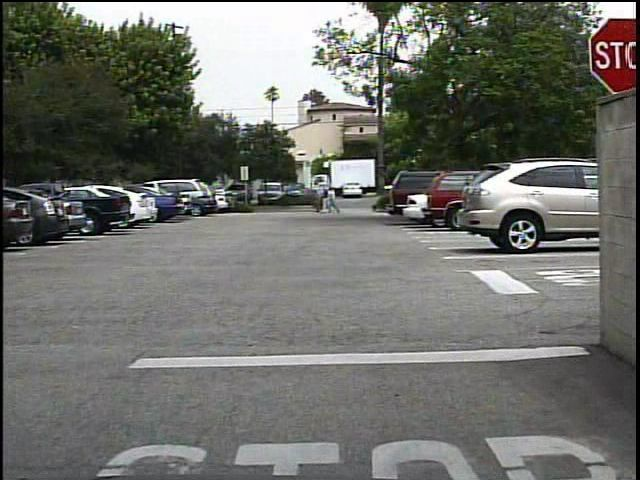person: (327, 186, 344, 216), (311, 186, 326, 215), (320, 186, 334, 217)
